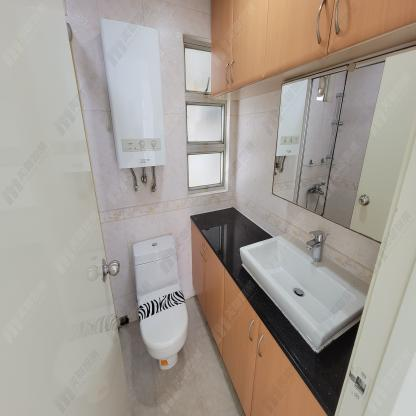Faucet: (304, 228, 326, 267)
Toilet: (132, 234, 189, 367)
Toilet Sink: (239, 232, 370, 353)
Water Heater: (100, 16, 168, 171)
